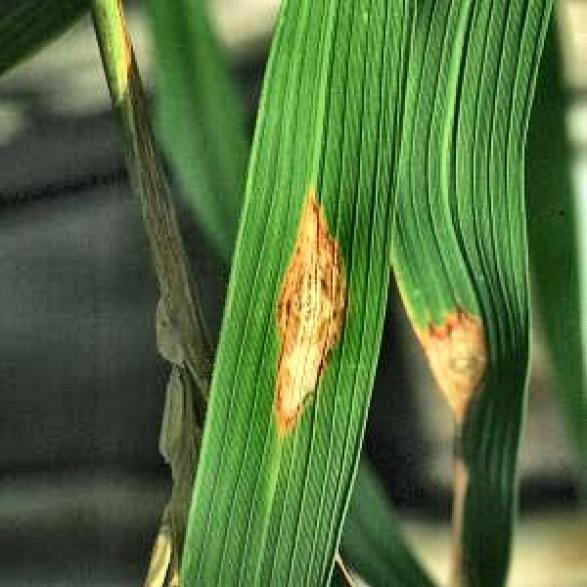Leaf_smut: (256, 172, 350, 464), (411, 290, 503, 433)
